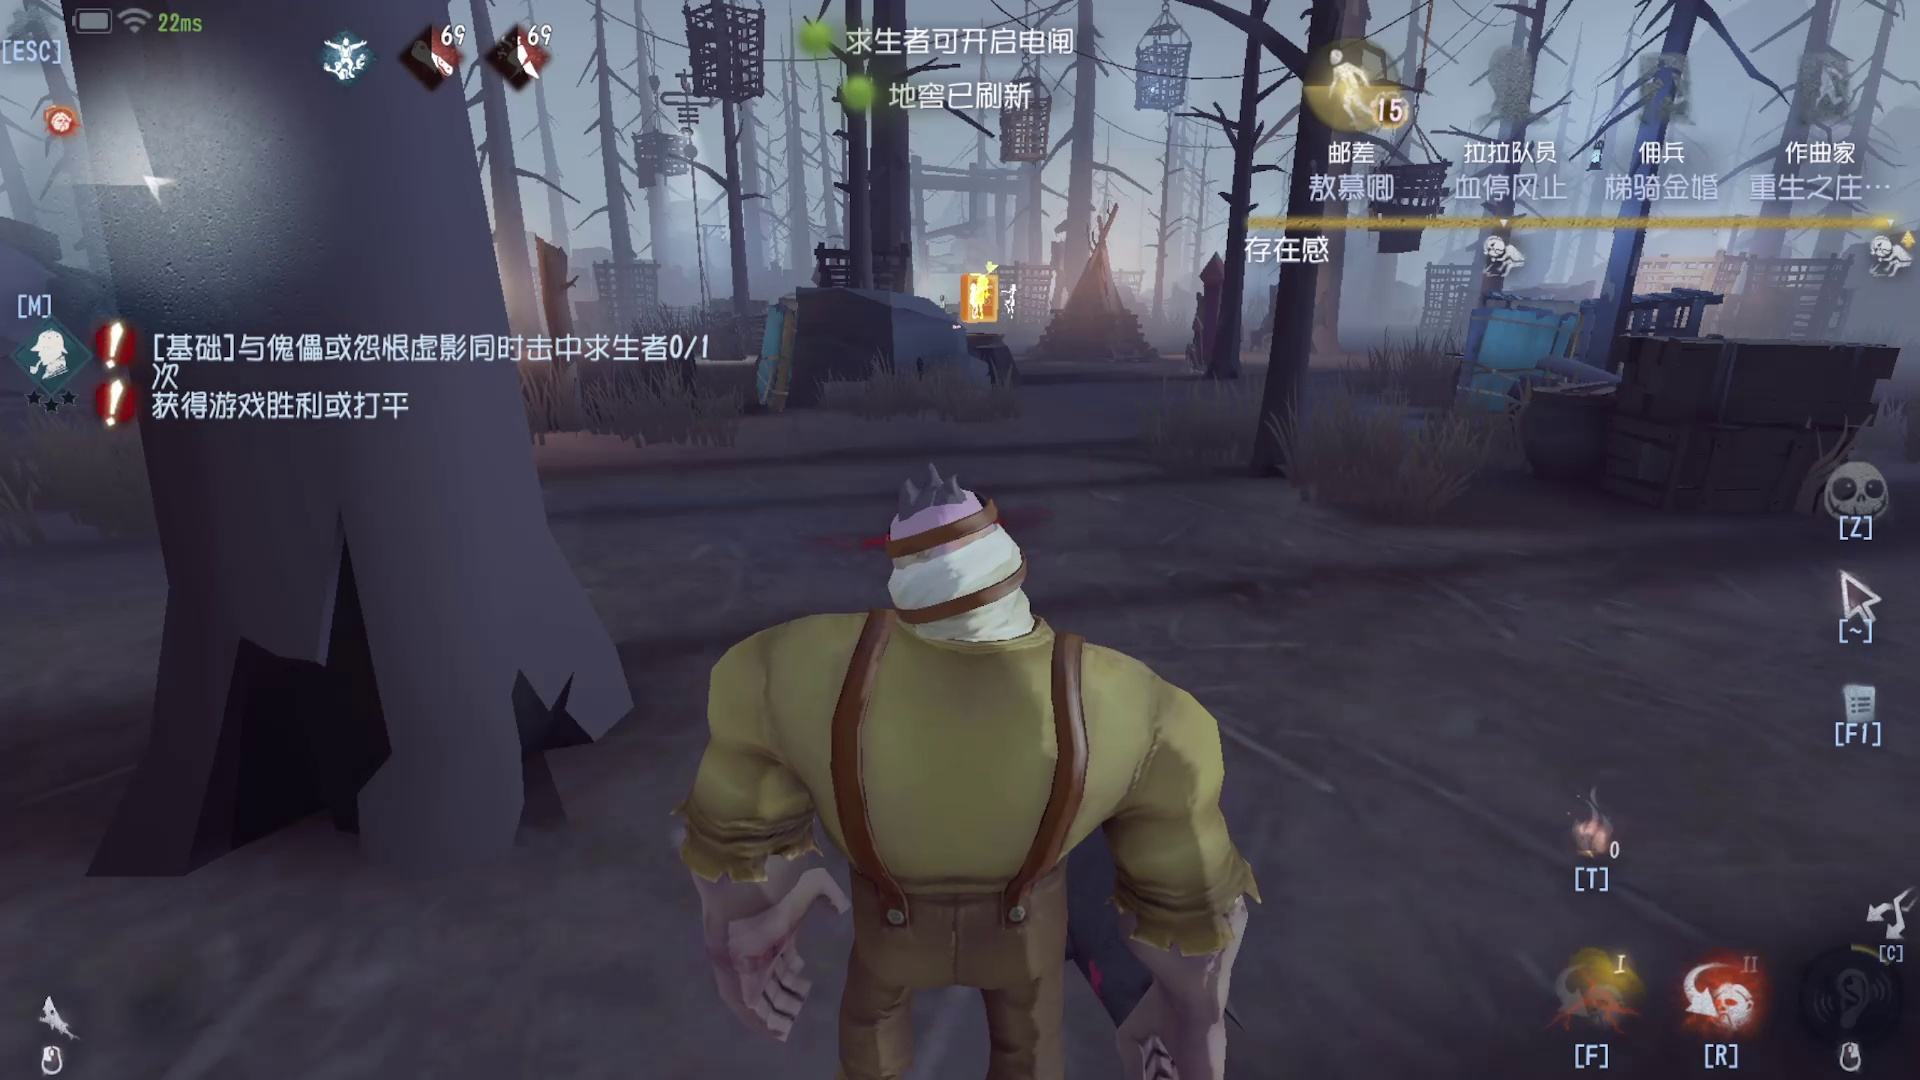技能: (1522, 740, 1677, 918)
木板: (1437, 274, 1584, 419), (731, 291, 820, 413)
求生者: (945, 251, 1027, 313)
狂欢之椅: (1149, 247, 1240, 378)
设置: (1, 1, 88, 78)
